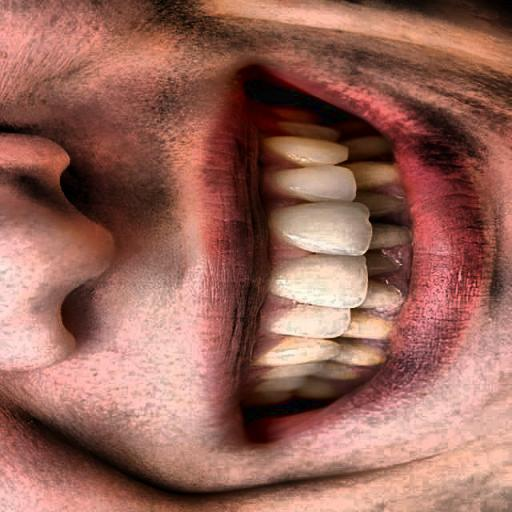Healthy: (213, 113, 420, 412)
